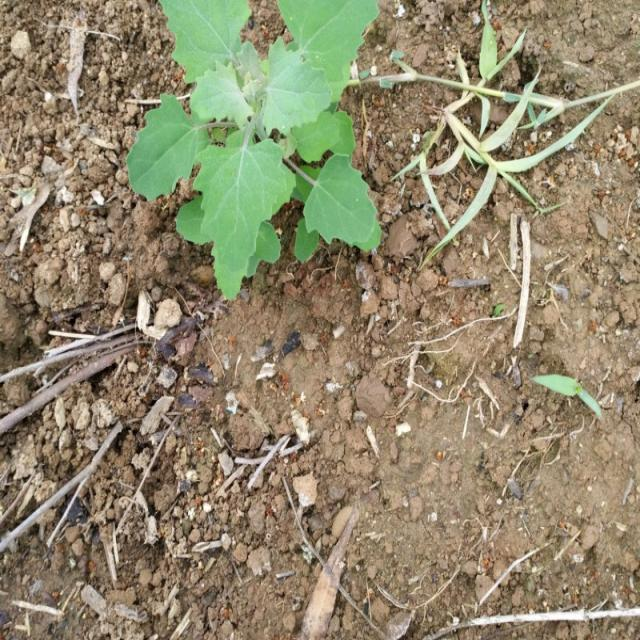ca: (127, 0, 382, 303)
